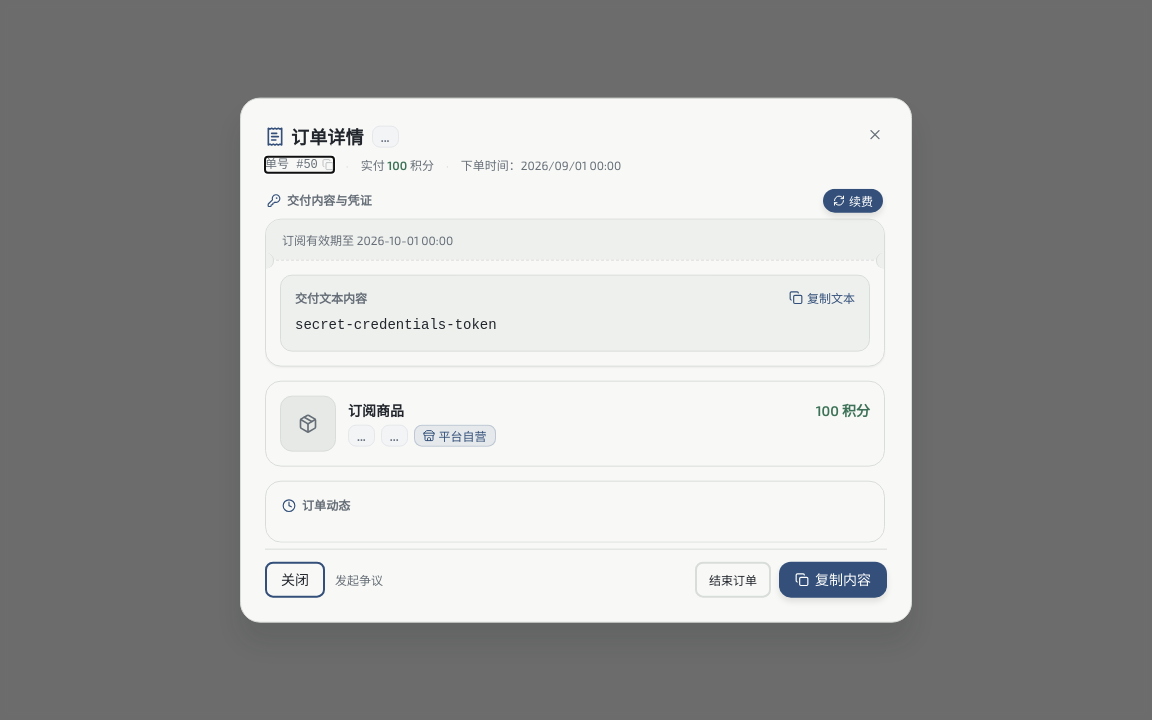
Test: OrderDetailModal › renewal term fields › sends expectedProductContentVersion and expectedAssuranceGrantId from the confirmed renewal preview, including null grant id
Click the button with test id "order-renew-button".
click(853, 201)  # box [823,189,883,213]
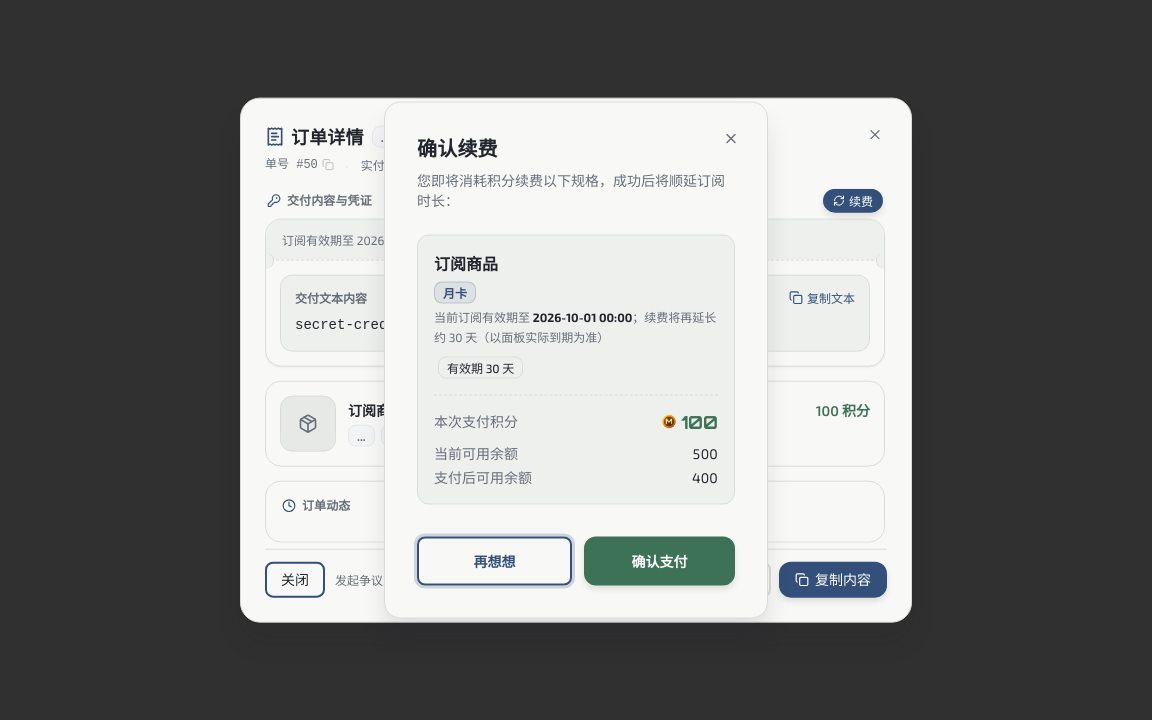
Expected: the dialog with test id "purchase-modal" is shown, [384,102,768,618]
Expected: the element with test id "preview-price" is shown, [661,408,718,436]
Click the button "确认支付".
click(660, 561)  # box [584,536,735,586]
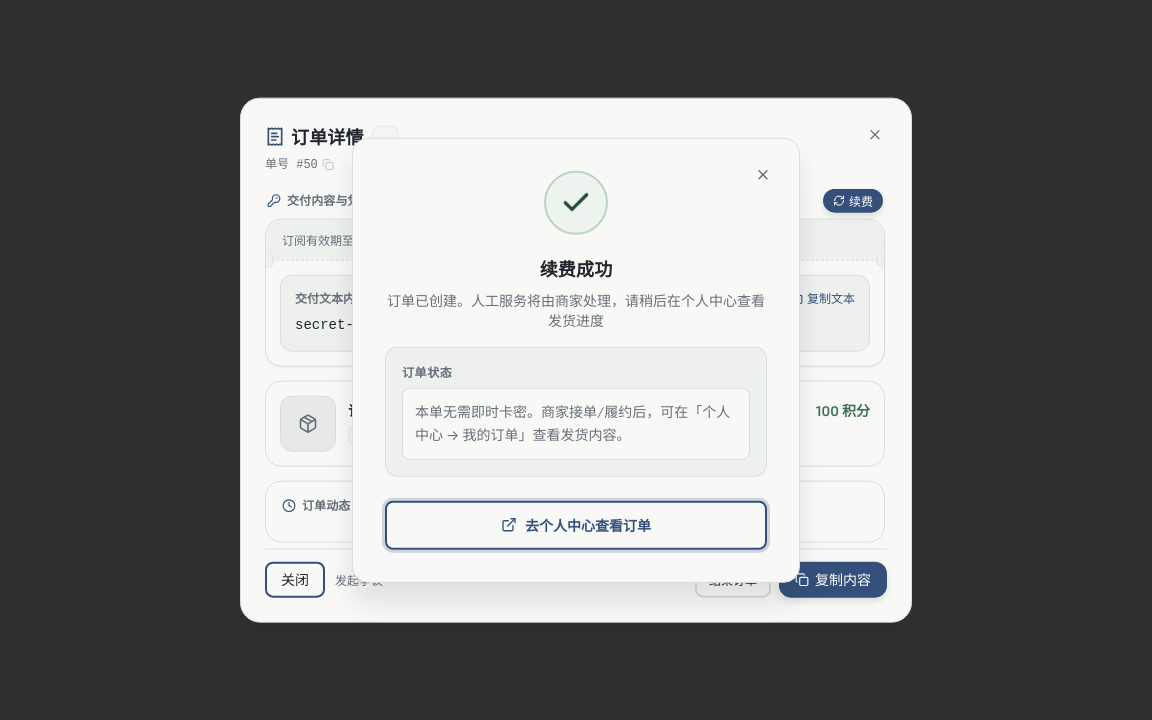
Expected: the heading with test id "success-modal-title" reads "续费成功", [540,258,612,280]
